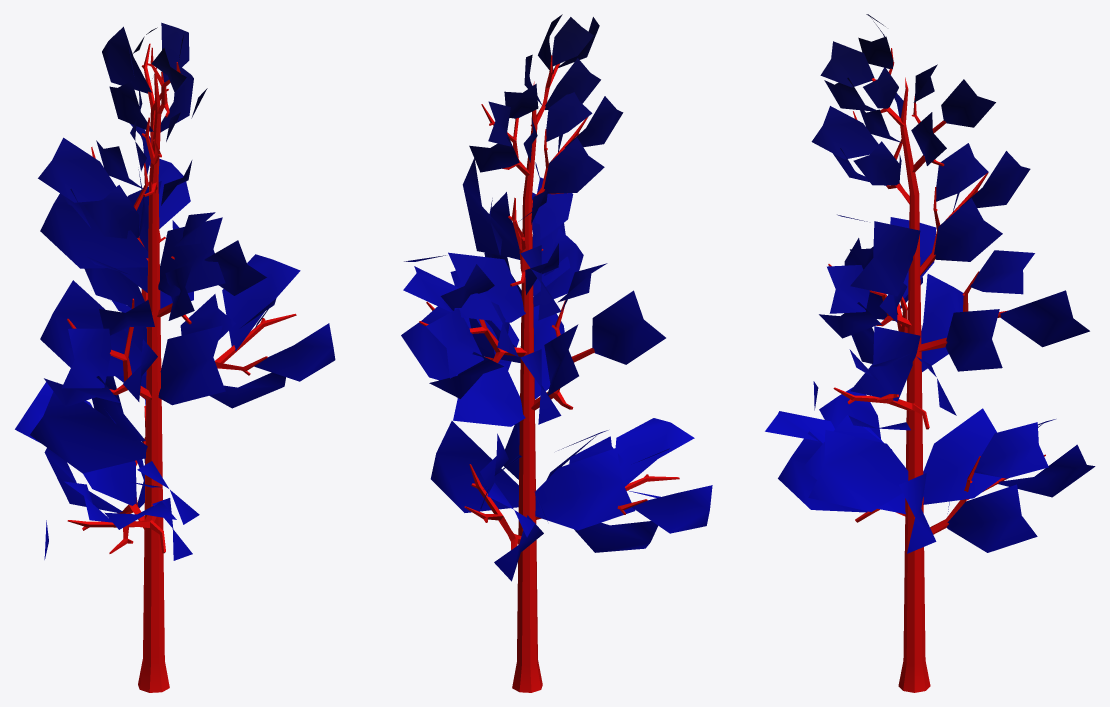
File: SM_Tree_Birch_Dead_01.glb
The picture shows the model from 3 angles, left to right: view 1: azimuth 30°, elevation 25°; view 2: azimuth 150°, elevation 25°; view 3: azimuth 270°, elevation 25°; orthographic projection. The views are drawn at different scales.
Visible parts, largest first — view 1: SM_Tree_Birch_Dead_01; view 2: SM_Tree_Birch_Dead_01; view 3: SM_Tree_Birch_Dead_01.
Boxes of the visible parts, bbox=[...] form: SM_Tree_Birch_Dead_01: bbox=[15, 22, 335, 692]; SM_Tree_Birch_Dead_01: bbox=[401, 14, 712, 692]; SM_Tree_Birch_Dead_01: bbox=[765, 14, 1095, 692].
Size of the model in its own units: 2.16 by 4.49 by 2.1.
